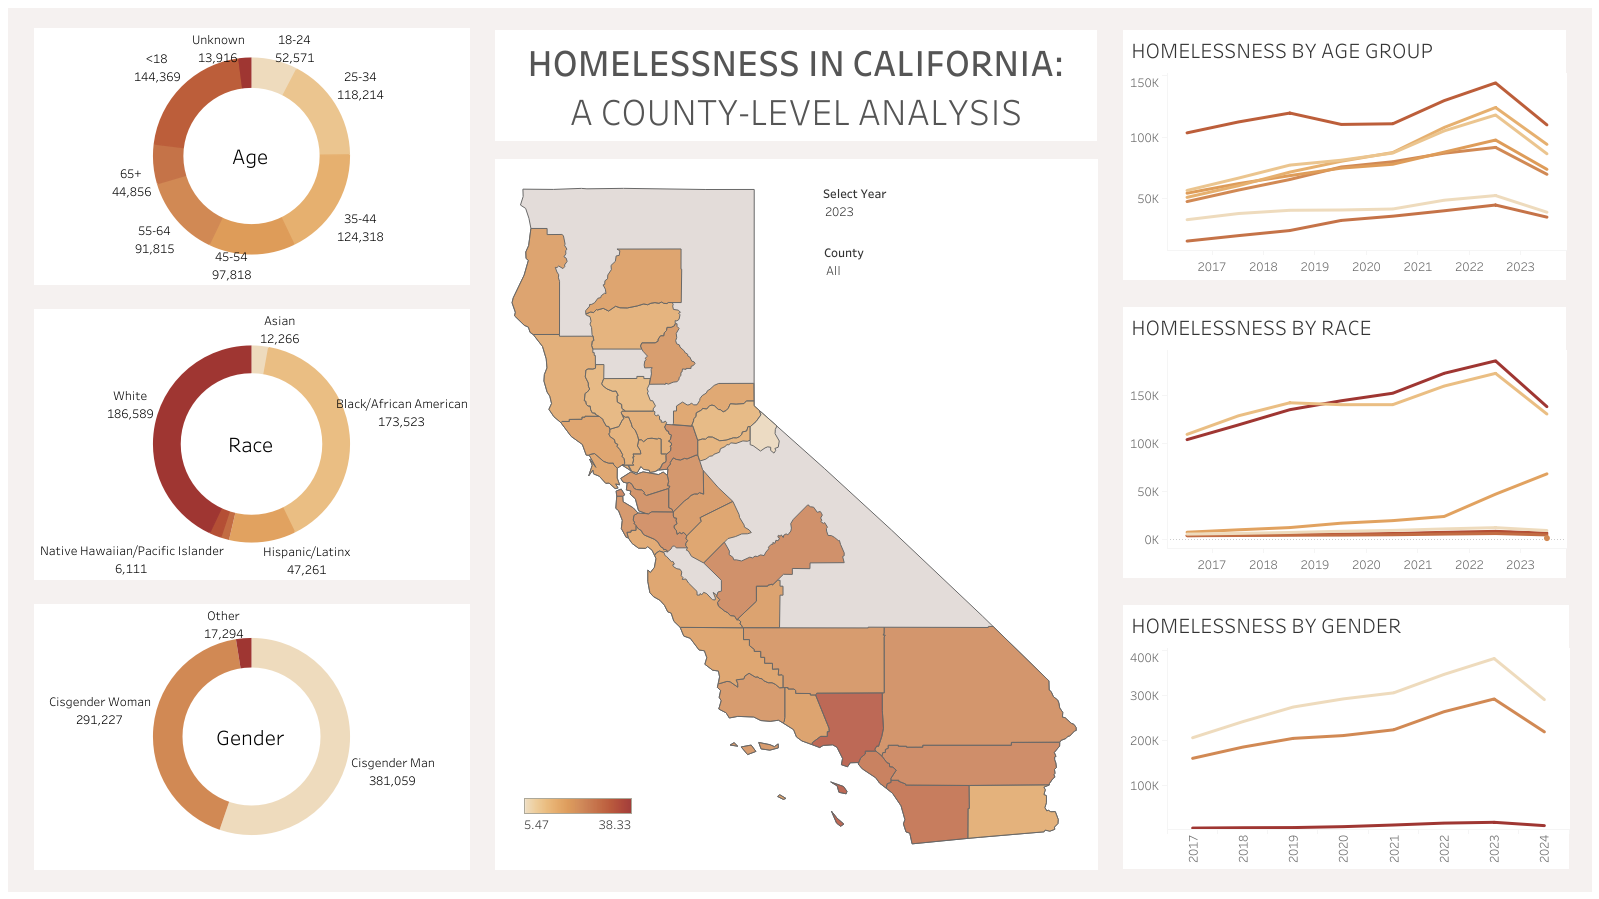

The dashboard page shown, as its layout file describes it:
{"tool":"tableau","page":{"name":"Homelessness Dashboard","canvas":[1000,1000],"units":"permille","ordinal":0},"visuals":[{"type":"worksheet","title":"Donut Chart - by Age","mark":"Pie","rows":["Calculation_1168402659354243076","Calculation_1168402659354243076"],"box":[4.2,8.8,296.9,311.9]},{"type":"text","box":[301.2,8.8,393,213.5]},{"type":"worksheet","title":"Line Graph - by Age","mark":"Automatic","rows":["EXPERIENCING_HOMELESSNESS_CNT"],"cols":["CALENDAR_YEAR"],"box":[694.1,8.8,301.6,307.5]},{"type":"worksheet","title":"Map - Homelessness by County","mark":"Multipolygon","box":[301.2,222.3,393,768.8]},{"type":"filter","title":"Map - Homelessness by County","param":"[federated.0p42t8n10lpca11fshqov0r4ukss].[yr:CALENDAR_YEAR:ok]","box":[516.4,269.9,137.8,96.2]},{"type":"worksheet","title":"Line Graph - by Race","mark":"Automatic","rows":["CNT (HMRaces.csv)"],"cols":["CALENDAR_YEAR (HMRaces.csv)"],"box":[694.1,316.4,301.6,331.9]},{"type":"worksheet","title":"Donut Chart - by Race","mark":"Pie","rows":["Calculation_1168402659354243076","Calculation_1168402659354243076"],"box":[4.2,320.8,296.9,328.5]},{"type":"filter","title":"Donut Chart - by Gender","param":"[federated.0p42t8n10lpca11fshqov0r4ukss].[none:COUNTY:nk]","box":[516.4,325.2,136.8,95.1]},{"type":"worksheet","title":"Line Graph - by Gender","mark":"Automatic","rows":["CNT"],"cols":["CALENDAR_YEAR (HMGender.csv)"],"box":[694.1,648.2,301.6,342.9]},{"type":"worksheet","title":"Donut Chart - by Gender","mark":"Pie","rows":["Calculation_1168402659354243076","Calculation_1168402659354243076"],"box":[4.2,649.3,296.9,341.8]},{"type":"legend","title":"Map - Homelessness by County","param":"[federated.0p42t8n10lpca11fshqov0r4ukss].[sum:Calculation_1168402659251892224:qk","box":[325.2,882.7,72.3,66.4]}]}

Visuals, with their boxes on the dashboard's canvas, which has no fixed pixel size, in thousandths of its width and height (x1, y1, x2, y2). These are canvas units, not pixel positions in the 1599x899 screenshot, which may show the page scaled, cropped or inside an application window:
"Donut Chart - by Age" worksheet (Pie marks): <bbox>4, 9, 301, 321</bbox>
text: <bbox>301, 9, 694, 222</bbox>
"Line Graph - by Age" worksheet: <bbox>694, 9, 996, 316</bbox>
"Map - Homelessness by County" worksheet (Multipolygon marks): <bbox>301, 222, 694, 991</bbox>
"Map - Homelessness by County" filter: <bbox>516, 270, 654, 366</bbox>
"Line Graph - by Race" worksheet: <bbox>694, 316, 996, 648</bbox>
"Donut Chart - by Race" worksheet (Pie marks): <bbox>4, 321, 301, 649</bbox>
"Donut Chart - by Gender" filter: <bbox>516, 325, 653, 420</bbox>
"Line Graph - by Gender" worksheet: <bbox>694, 648, 996, 991</bbox>
"Donut Chart - by Gender" worksheet (Pie marks): <bbox>4, 649, 301, 991</bbox>
"Map - Homelessness by County" legend: <bbox>325, 883, 398, 949</bbox>
